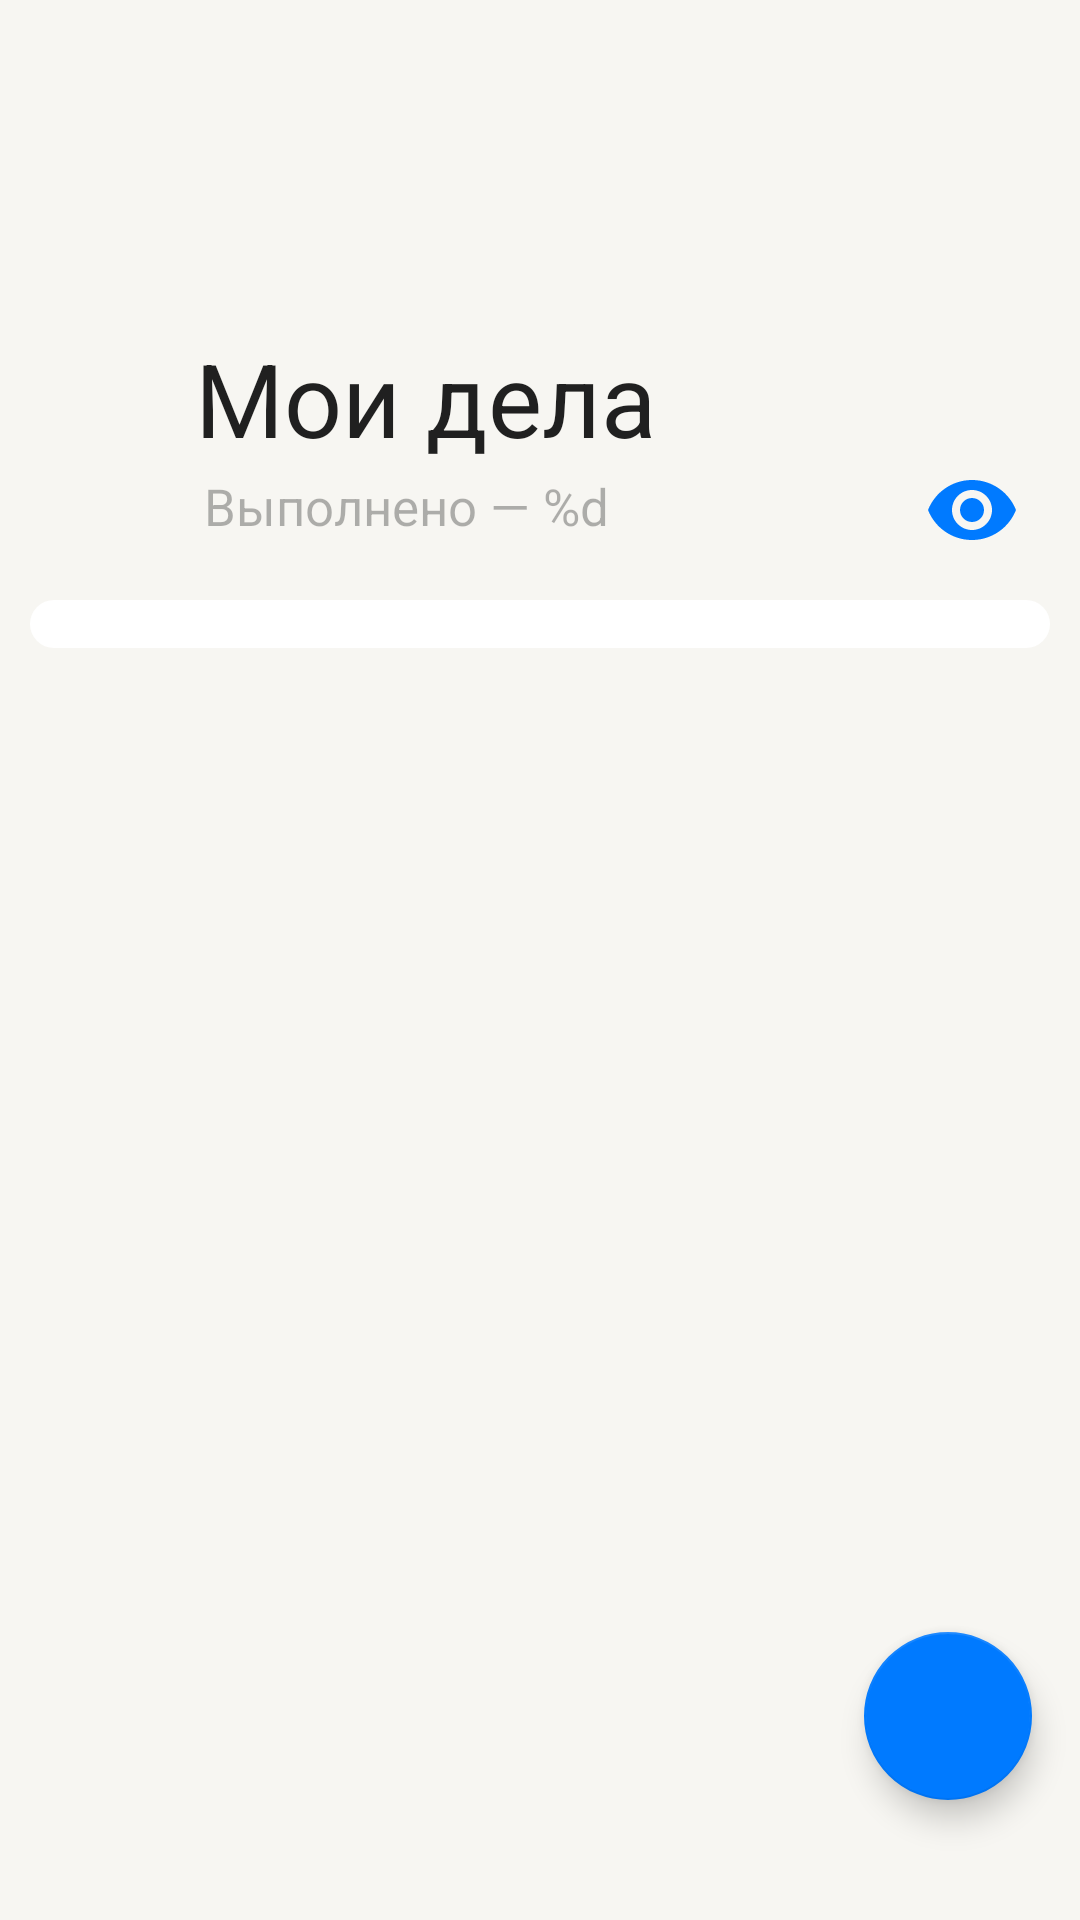

Icons on this 1080px×1920px Android screen, each with its box as (x1, y1, x2, y2):
eye: (928, 480, 1016, 540)
